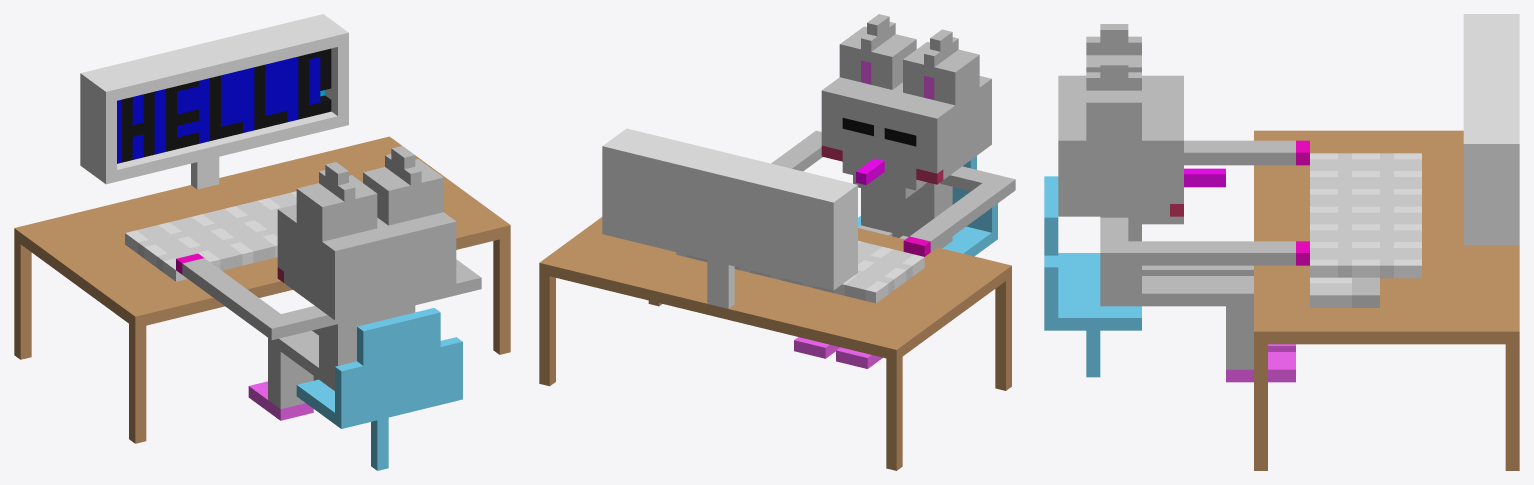
File: usa.glb
3 renders of one model, left to right at view 1: azimuth 30°, elevation 25°; view 2: azimuth 150°, elevation 25°; view 3: azimuth 270°, elevation 25°, orthographic. The views are drawn at different scales.
Parts seen in each view (by area): view 1: Untitled; view 2: Untitled; view 3: Untitled.
Boxes of the visible parts, box(x1,y1,x2,y2) form: Untitled: box(14, 14, 510, 470); Untitled: box(539, 14, 1015, 470); Untitled: box(1044, 14, 1519, 470).
Bounding box in the file's own units: 3.4 × 2.6 × 3.4.
Materials: 1 (1 with a texture image).
